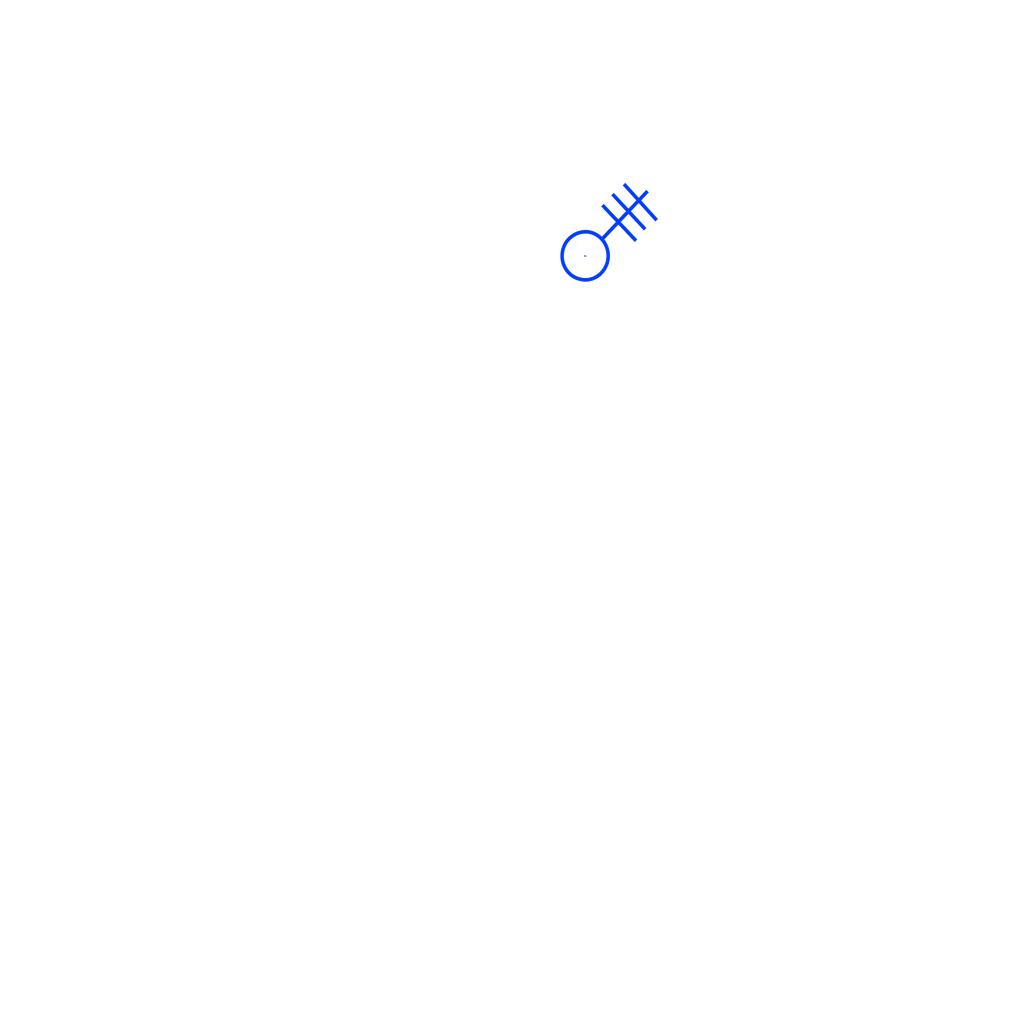Elektroanschluss_allgemein_400V_Geraeteanschlussdose_400V: (543, 170, 659, 283)
